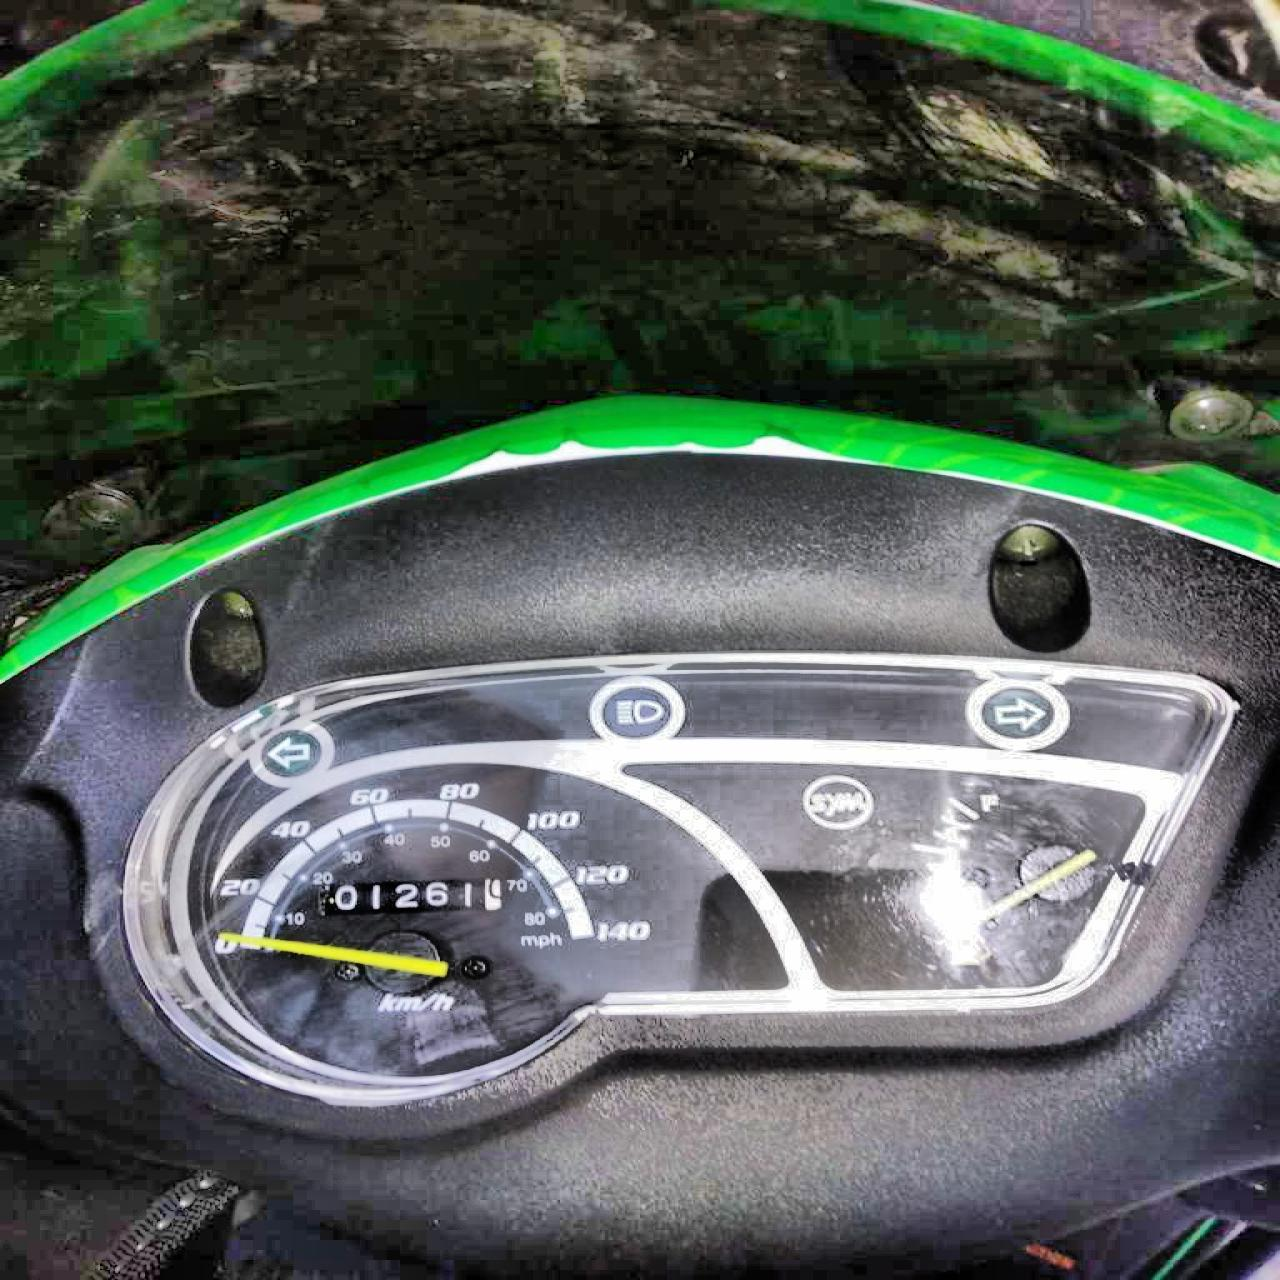0: (332, 884, 356, 910), (485, 874, 503, 899), (320, 873, 332, 883)
1: (366, 881, 382, 910), (458, 878, 474, 907)
2: (392, 881, 418, 908), (312, 874, 320, 884)
6: (422, 880, 448, 906)
odometer: (312, 873, 506, 919)
